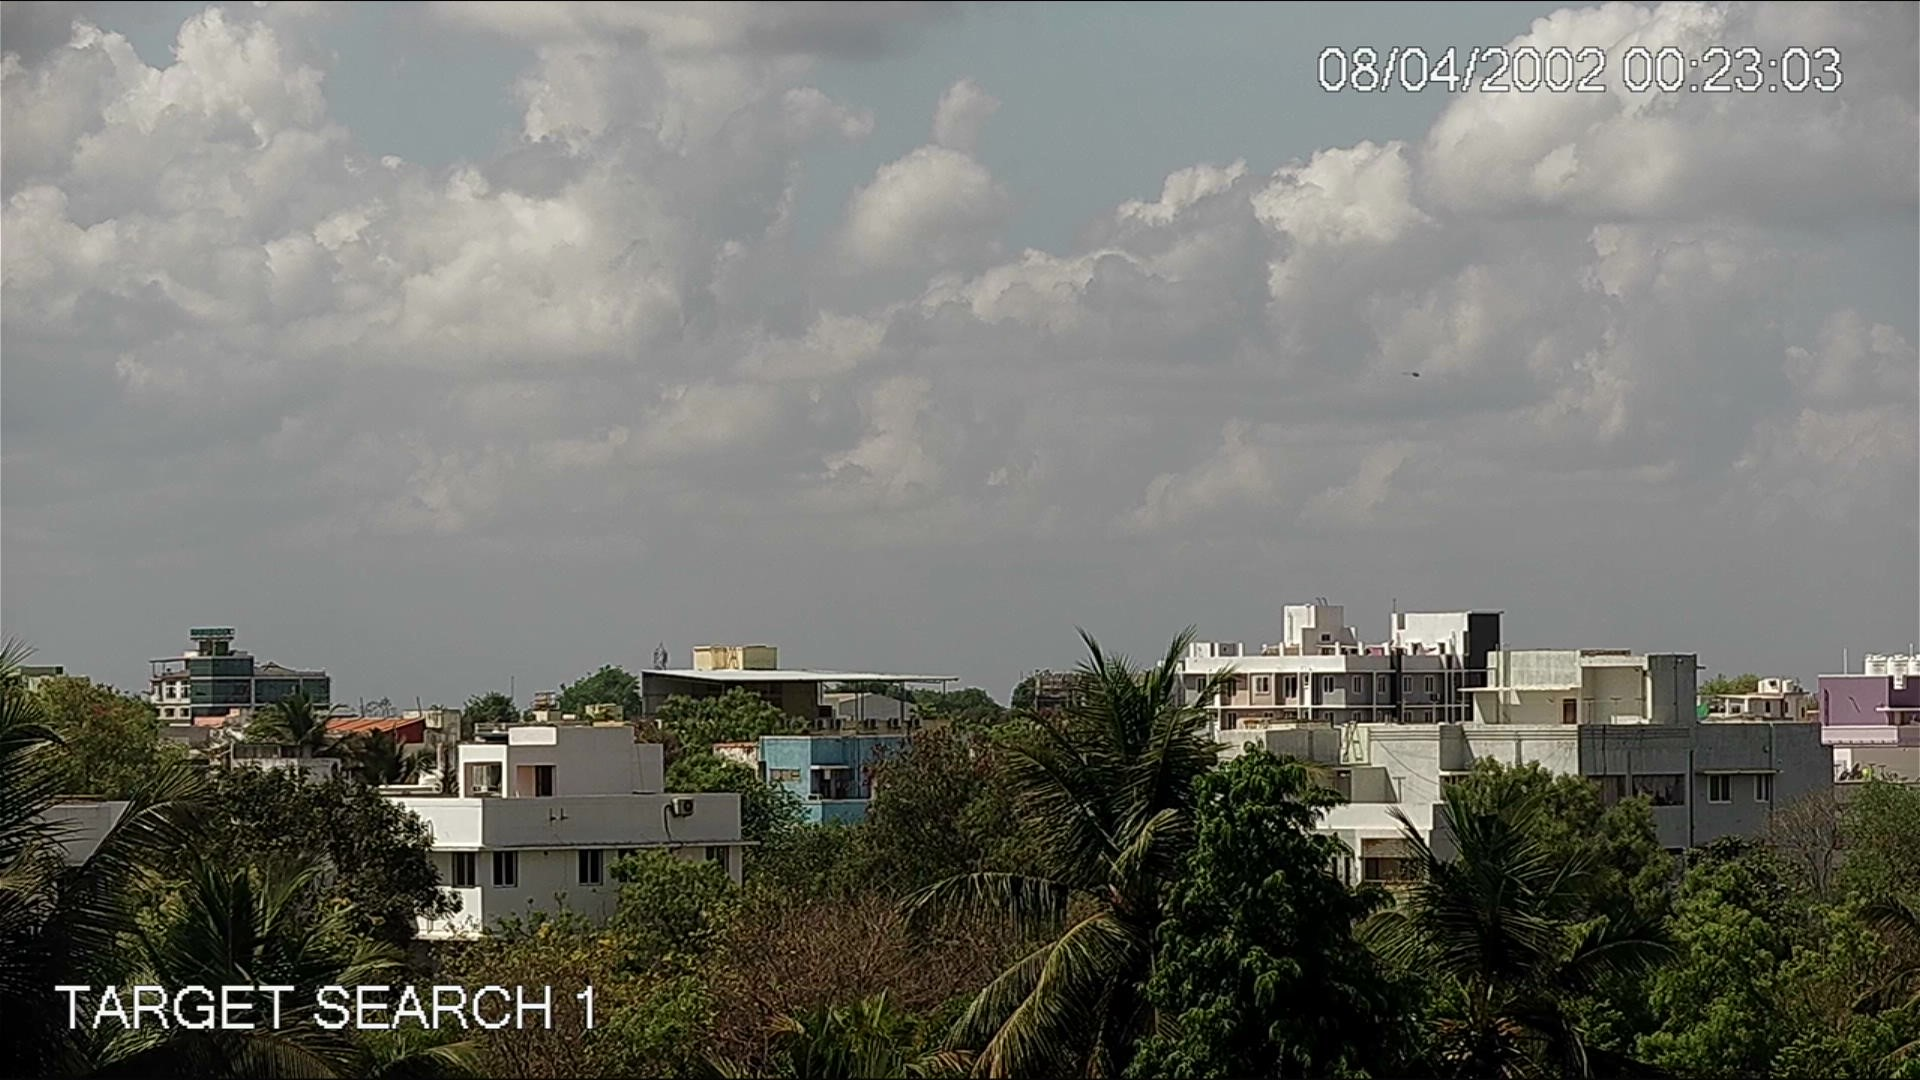SU_30: (1398, 367, 1423, 382)
